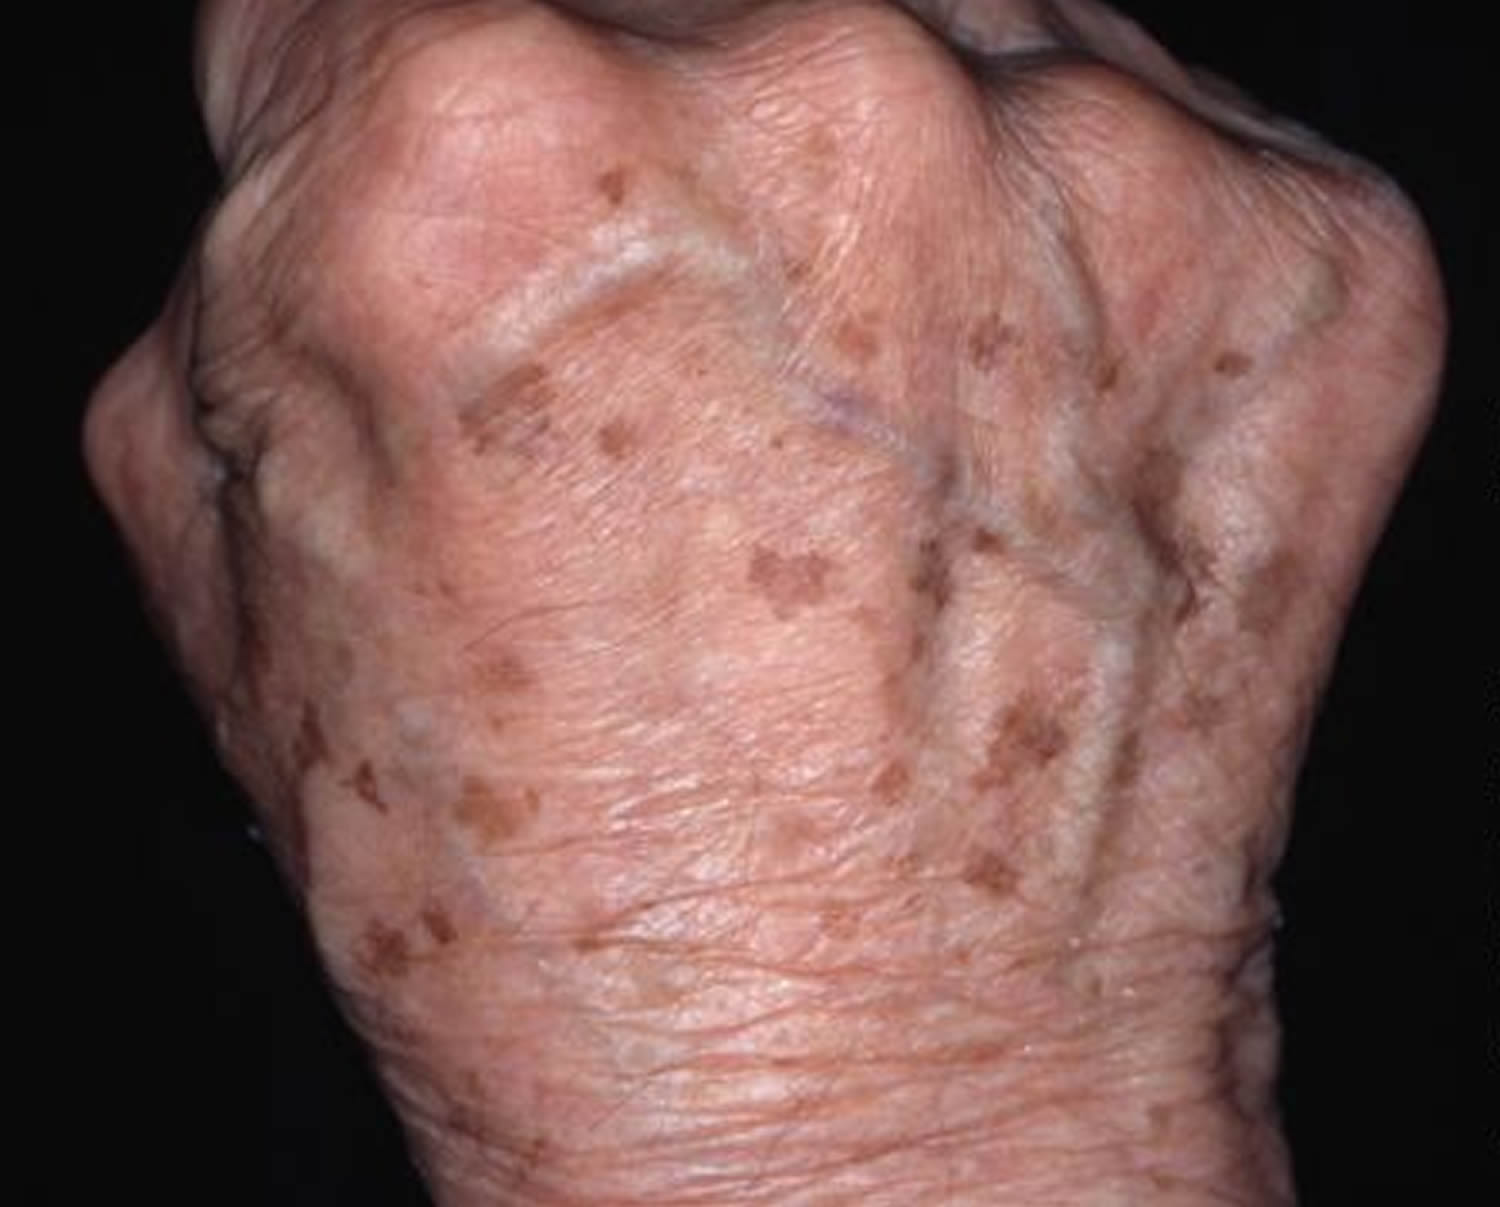DARK_SPOTS: (1092, 435, 1218, 638), (429, 353, 576, 462), (957, 695, 1085, 810), (733, 526, 844, 639), (438, 762, 560, 861), (1228, 535, 1307, 655), (1193, 333, 1280, 409), (966, 312, 1042, 395), (468, 636, 550, 712), (562, 890, 639, 967), (284, 696, 349, 787), (587, 404, 659, 483), (898, 539, 970, 615), (337, 753, 401, 826), (411, 894, 477, 961), (590, 148, 645, 216), (866, 754, 921, 817), (831, 317, 893, 371), (968, 519, 1017, 576), (966, 856, 1028, 900), (781, 236, 821, 301)
